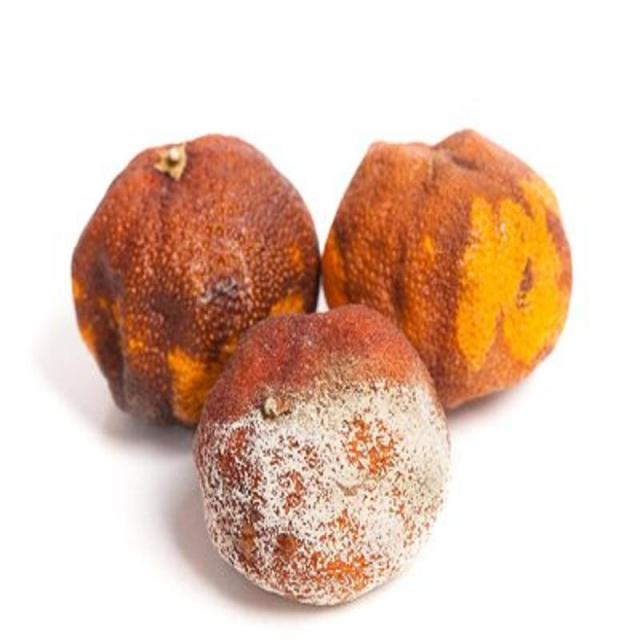organic: (70, 130, 570, 609)
